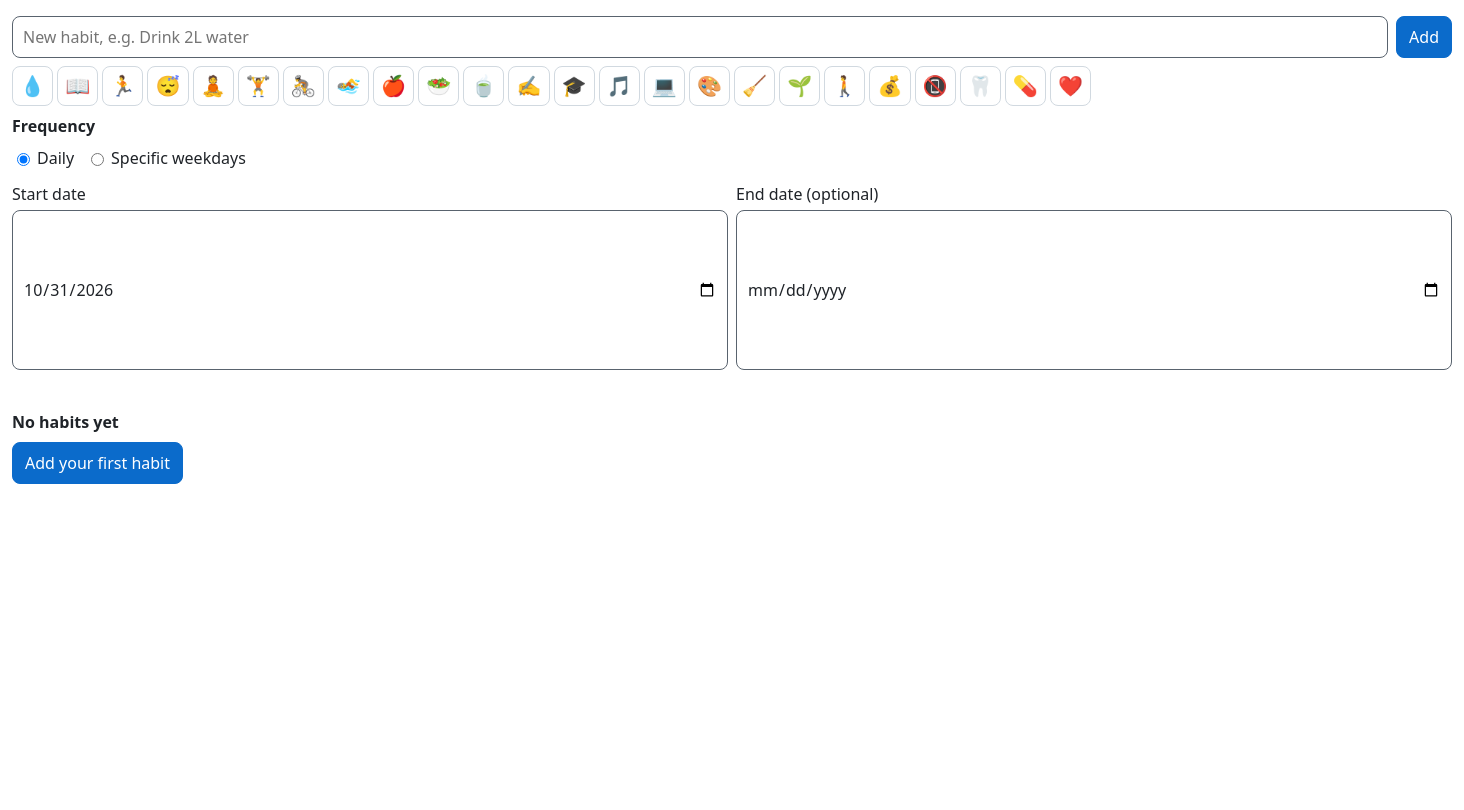
HabitList schedule › AC5 (#15): weekdays with no day ticked shows an inline error and saves nothing
In the field named "New habit name": coordinates (700, 37) [12,16,1388,58], type "Run"
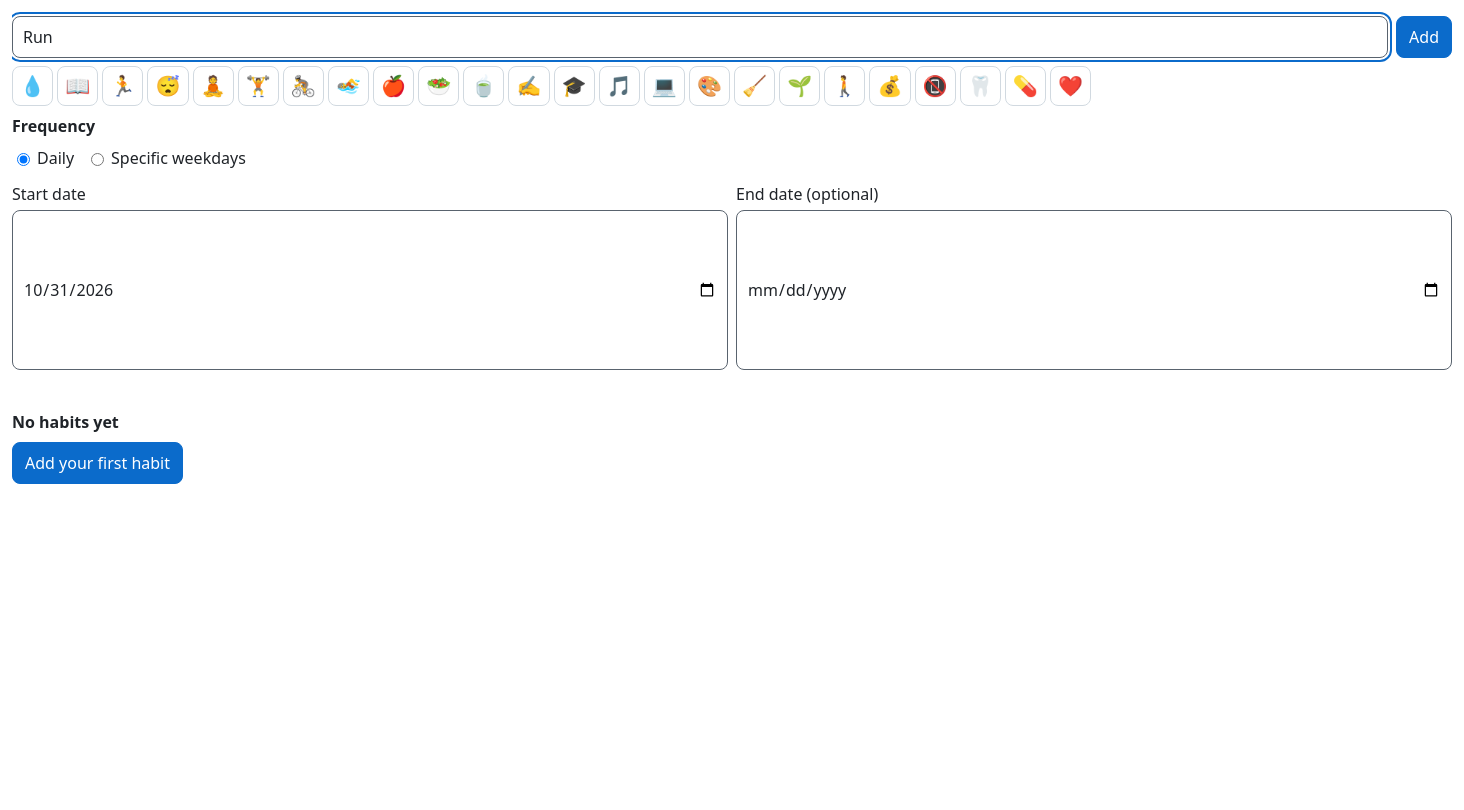
Click the radio button labelled "Specific weekdays": coordinates (98, 160) [91,153,104,166]
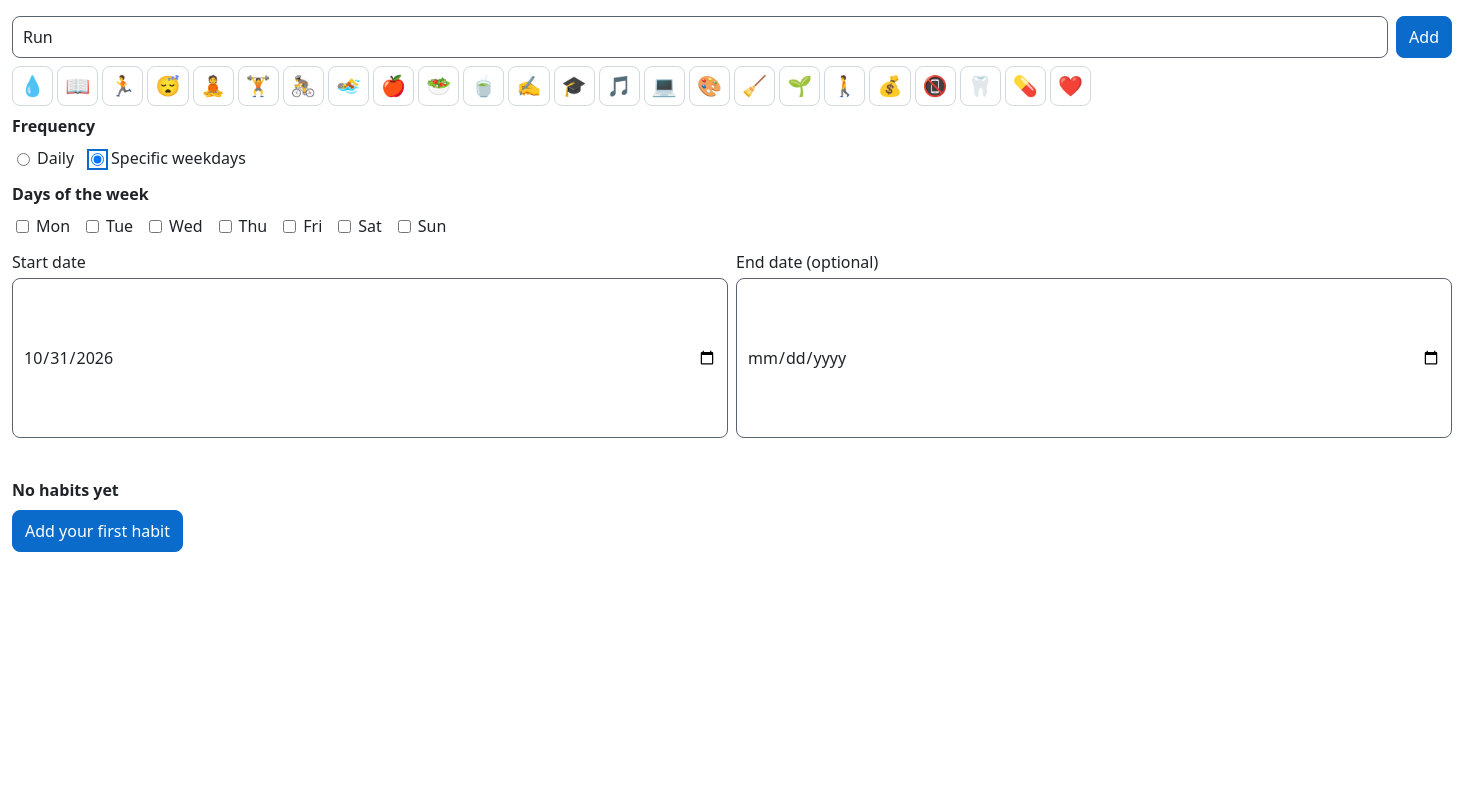
Click the button "Add": coordinates (1424, 37) [1396,16,1452,58]
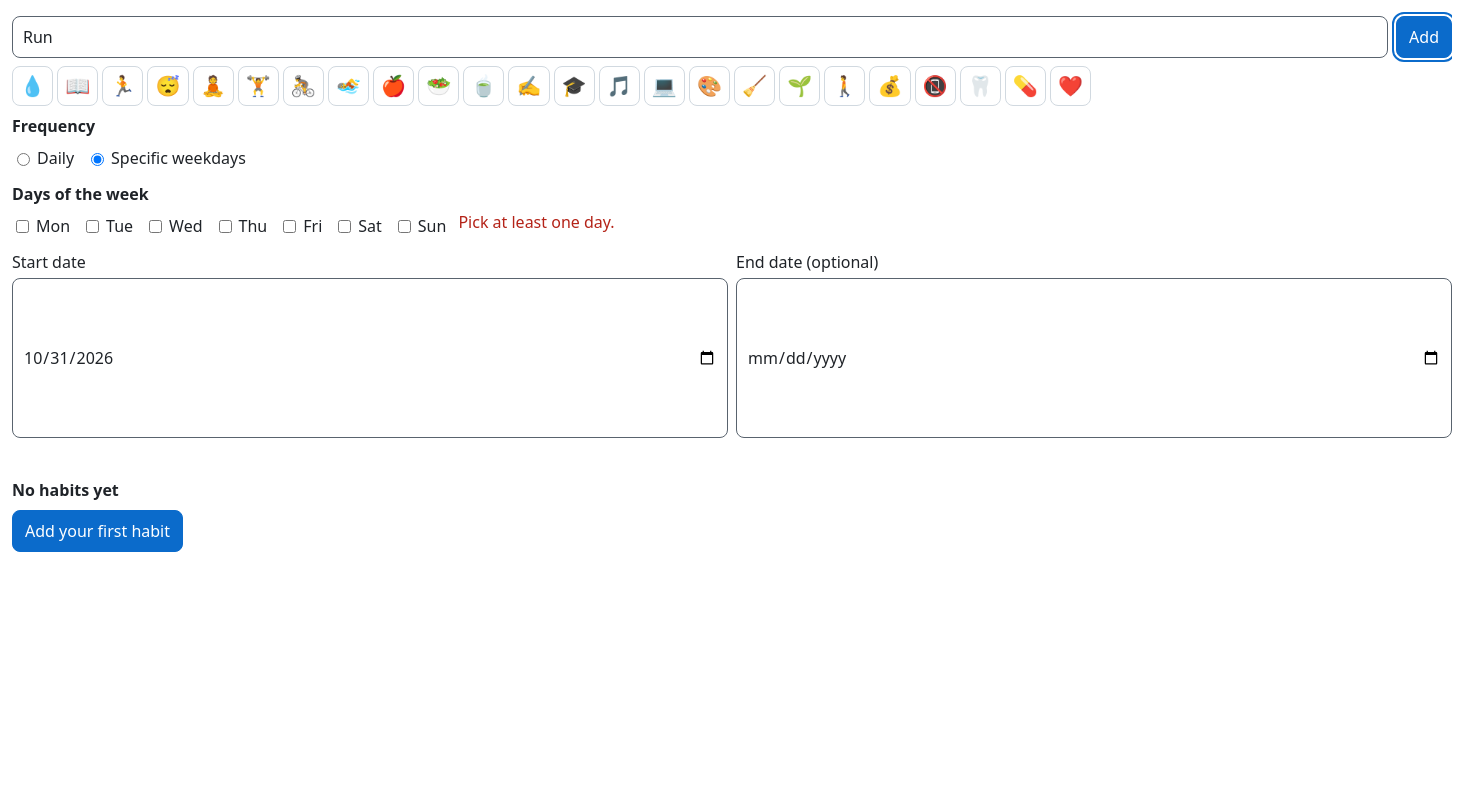
Result: the message reads "Pick at least one day." at [458,211,615,233]
